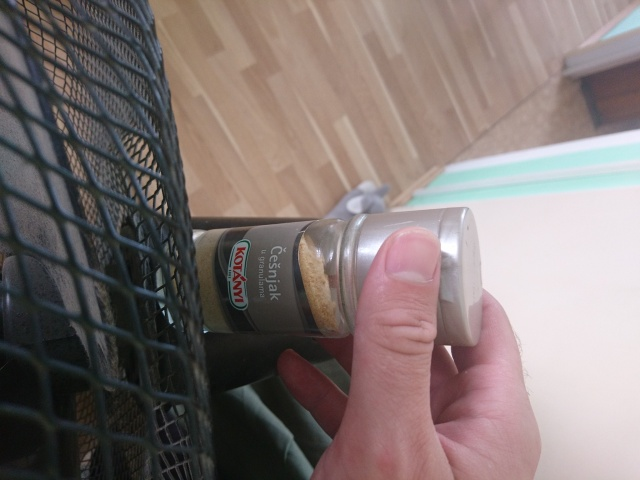Kotanyi Garlic Granules 70g: (151, 203, 486, 351)
